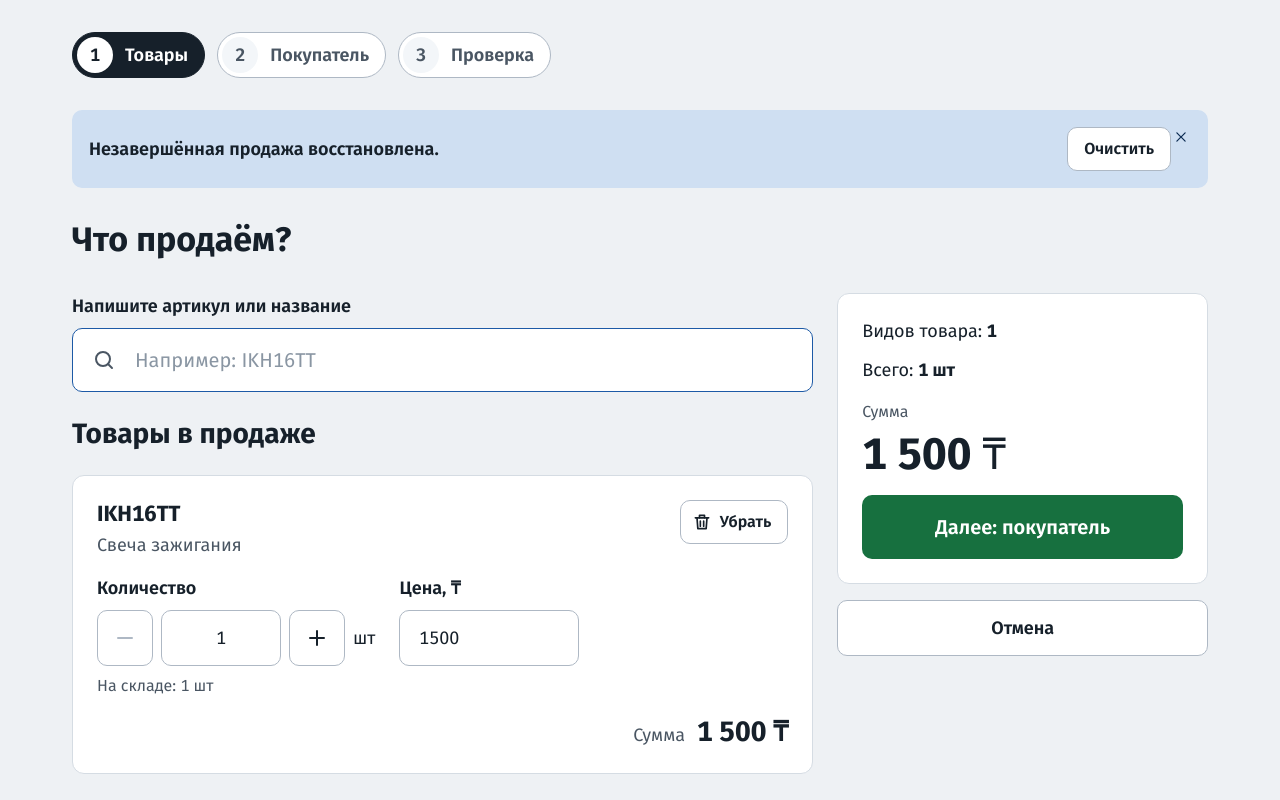
Test case: SellPage, step 1 › a quantity above the stock blocks «Далее» and says why
Expected: the field named "Количество IKH16TT" is shown, [161,610,281,666]
Expected: the text with test id "line-stock-2" reads "На складе: 1 шт", [97,676,214,695]
Click the button named "Увеличить".
click(317, 638)  # box [289,610,345,666]
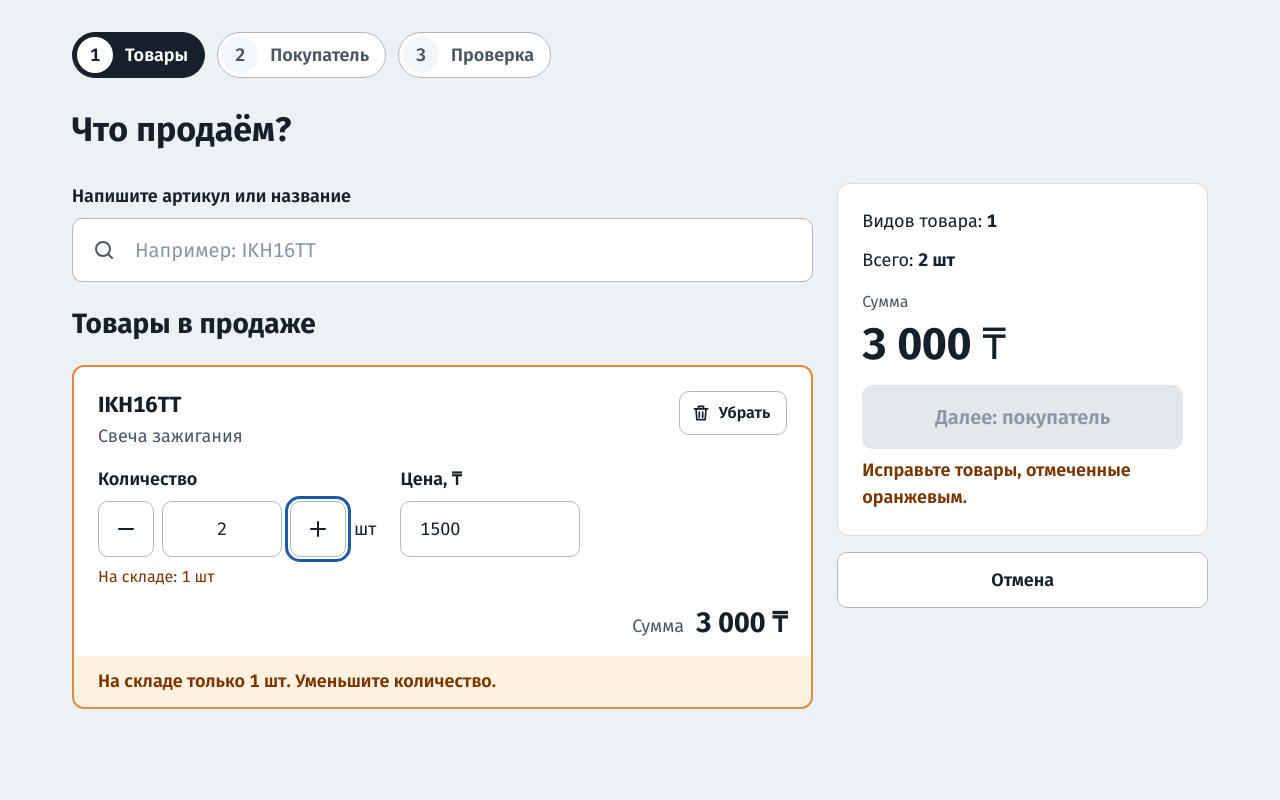
Expected: the field named "Количество IKH16TT" holds "2", [162,501,282,557]
Expected: the text "На складе только 1 шт. Уменьшите количество." is shown, [74,656,811,707]
Expected: the button "Далее: покупатель" is disabled, [862,385,1183,449]
